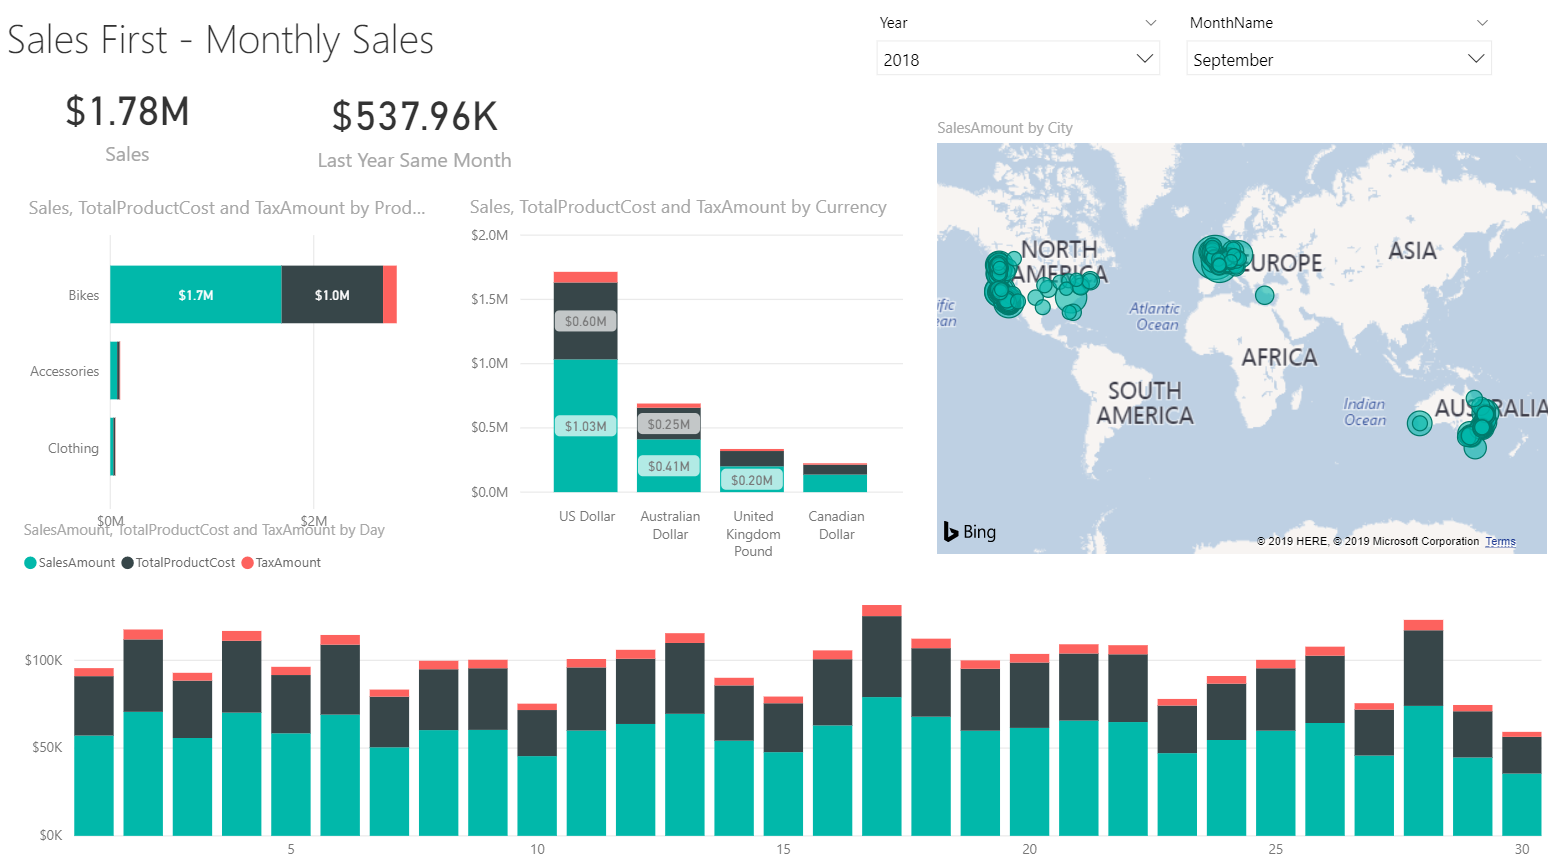

This screenshot's page, from the dashboard's own definition file:
{"tool":"powerbi","page":{"name":"Sales by Month","canvas":[1280,720],"ordinal":1},"visuals":[{"type":"slicer","fields":{"Values":["Date.MonthName"]},"box":[1041.3,13.9,230,66.1],"z":2},{"type":"slicer","fields":{"Values":["Date.Year"]},"box":[798.6,13.9,235.8,63.3],"z":3},{"type":"columnChart","fields":{"Category":["Currency.Currency"],"Y":["Sum(Sales.SalesAmount)","Sum(Sales.TotalProductCost)","Sum(Sales.TaxAmount)"]},"box":[387.4,82.1,359.4,365.2],"z":4},{"type":"barChart","title":"Sales, Product Cost and Tax by Product Category","fields":{"Category":["ProductCategory.EnglishProductCategoryName","ProductSubcategory.EnglishProductSubcategoryName","Product.EnglishProductName"],"Y":["Sum(Sales.SalesAmount)","Sum(Sales.TotalProductCost)","Sum(Sales.TaxAmt)"]},"box":[5.8,211.7,360.6,237.8],"z":4},{"type":"columnChart","fields":{"Y":["Sum(Sales.SalesAmount)","Sum(Sales.TotalProductCost)","Sum(Sales.TaxAmount)"],"Category":["Date.Day"]},"box":[5.8,456.5,1265.5,260],"z":5},{"type":"filledMap","fields":{"Category":["Customers.CountryRegionName"],"Series":["Customers.City"]},"box":[770.2,82.1,501.6,360.6],"z":7},{"type":"kpi","title":"Sales and Last Year by Month","fields":{"Indicator":["Sum(Sales.SalesAmount)"],"Goal":["Sales.LastYearSameMonthSales"],"TrendLine":["Date.MonthName"]},"box":[5.8,82.1,358.3,97.1],"z":10},{"type":"textbox","box":[6.9,12.7,376.8,52],"z":7000}]}

Visuals, with their boxes in screenshot pixels (x1, y1, x2, y2), scaled from the page's 1280x720 canvas onto the 1556x865 screenshot:
slicer - Date.MonthName: BBox(1266, 17, 1545, 96)
slicer - Date.Year: BBox(971, 17, 1257, 93)
columnChart - Currency.Currency x Sum(Sales.SalesAmount): BBox(471, 99, 908, 537)
"Sales, Product Cost and Tax by Product Category" barChart: BBox(7, 254, 445, 540)
columnChart - Sum(Sales.SalesAmount) x Sum(Sales.TotalProductCost): BBox(7, 548, 1545, 861)
filledMap - Customers.CountryRegionName x Customers.City: BBox(936, 99, 1546, 532)
"Sales and Last Year by Month" kpi: BBox(7, 99, 443, 215)
textbox: BBox(8, 15, 466, 78)
